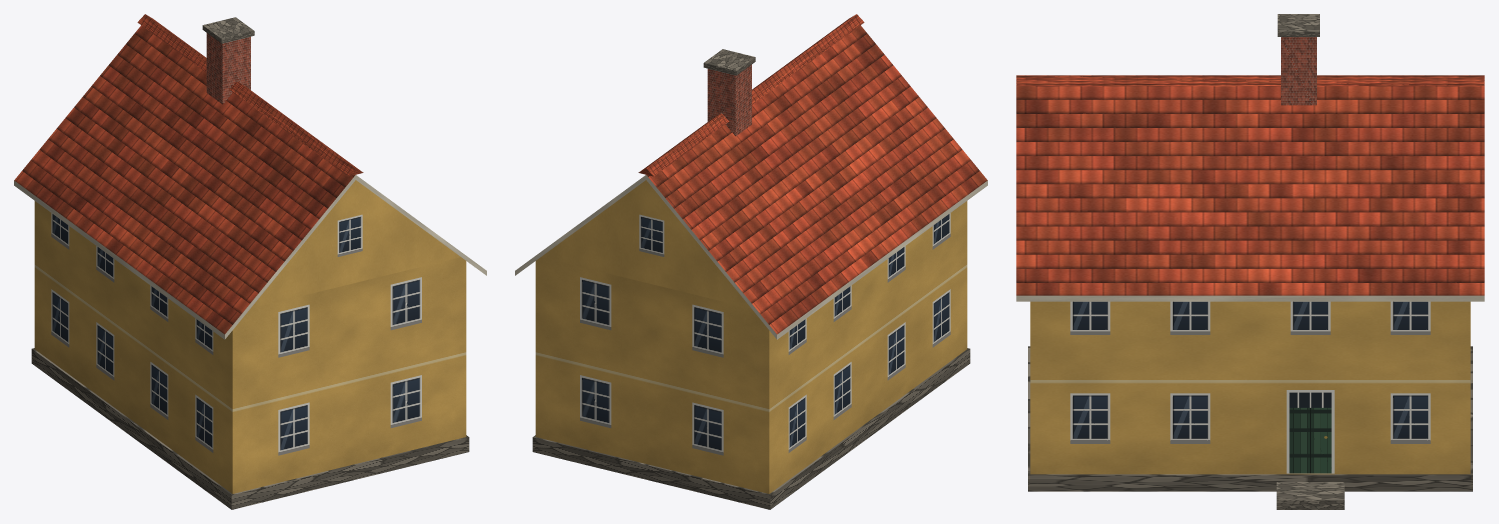
Rendered from SM_TownHouse_Ochre.fbx.
The picture shows the model from 3 angles, left to right: view 1: azimuth 30°, elevation 25°; view 2: azimuth 150°, elevation 25°; view 3: azimuth 270°, elevation 25°; orthographic projection. The views are drawn at different scales.
Parts seen in each view (by area): view 1: SM_TownHouse_Ochre; view 2: SM_TownHouse_Ochre; view 3: SM_TownHouse_Ochre.
Part boxes in pixels (x1,y1,x2,y2): SM_TownHouse_Ochre: (14,14,486,509); SM_TownHouse_Ochre: (515,14,987,509); SM_TownHouse_Ochre: (1016,14,1484,509).
Size of the model in its own units: 910 by 1170 by 1114.
Materials: 1 (1 with a texture image).
